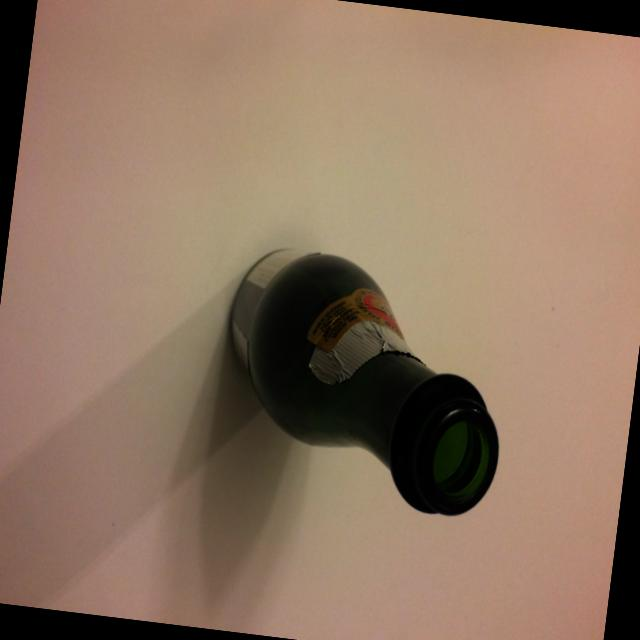Glass: (198, 225, 530, 534)
